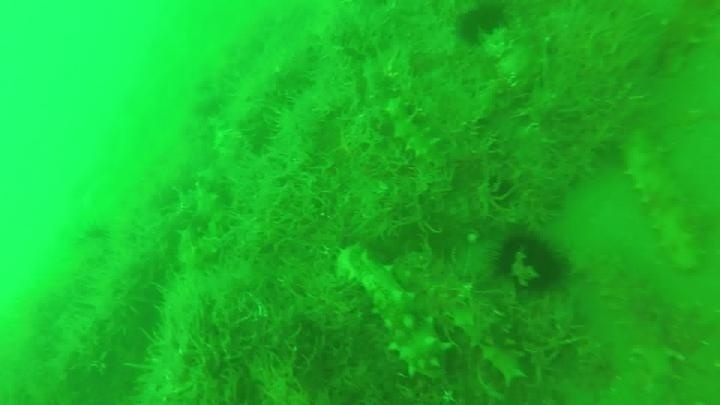echinus: (489, 226, 573, 295), (452, 2, 512, 48)
holothurian: (392, 247, 532, 385), (332, 242, 455, 381), (613, 126, 707, 271), (380, 95, 451, 170), (648, 1, 717, 76)
